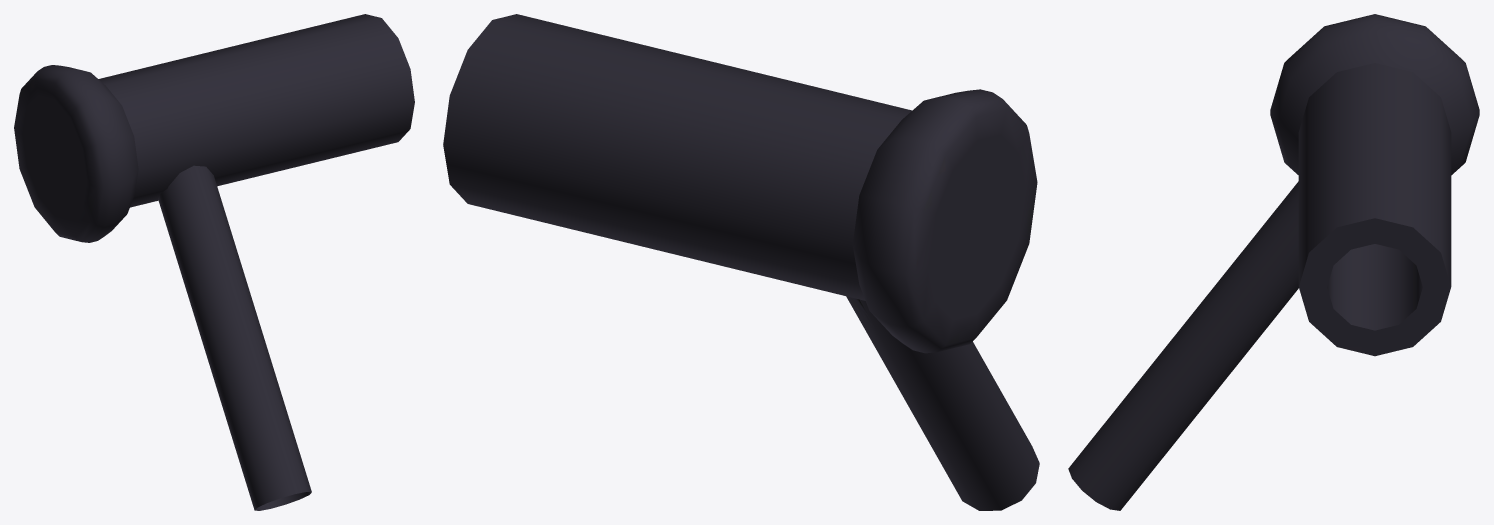
The model's file is Assist_jixiebi01.FBX.
3 renders of one model, left to right at view 1: azimuth 30°, elevation 25°; view 2: azimuth 150°, elevation 25°; view 3: azimuth 270°, elevation 25°, orthographic. The views are drawn at different scales.
Visible parts, largest first — view 1: Assist_jixiebi01; view 2: Assist_jixiebi01; view 3: Assist_jixiebi01.
Part boxes in pixels (bbox=[...]): Assist_jixiebi01: bbox=[14, 14, 414, 510]; Assist_jixiebi01: bbox=[443, 14, 1039, 510]; Assist_jixiebi01: bbox=[1068, 14, 1479, 510].
Bounding box in the file's own units: 1.6 × 1.78 × 1.52.
Materials: 1 (1 with a texture image).
